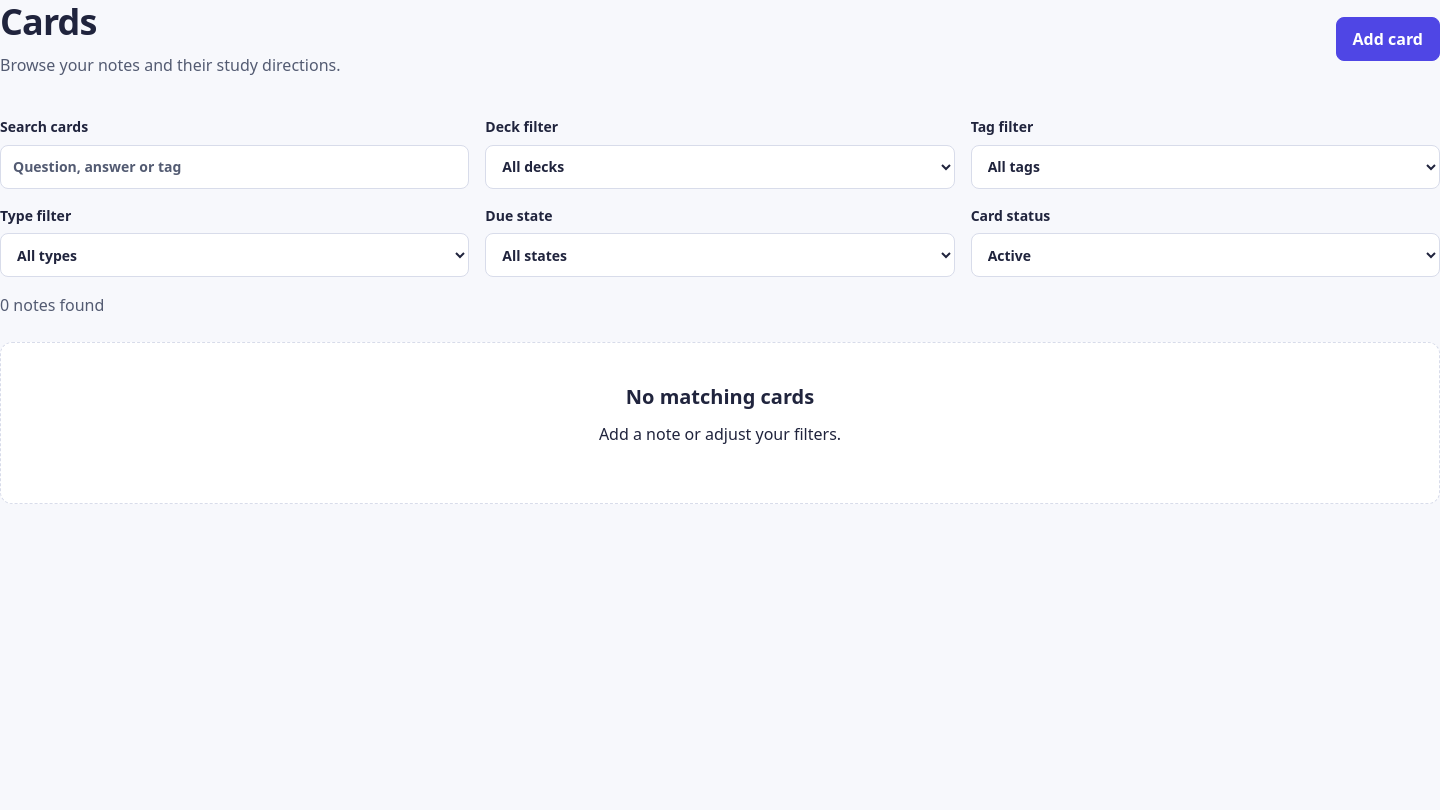
Test: deck and card workflows › creates a basic note and its correct number of study units
This screenshot has width=1440, height=810.
Click the button "Add card": coordinates (1388, 39) [1336,17,1439,61]
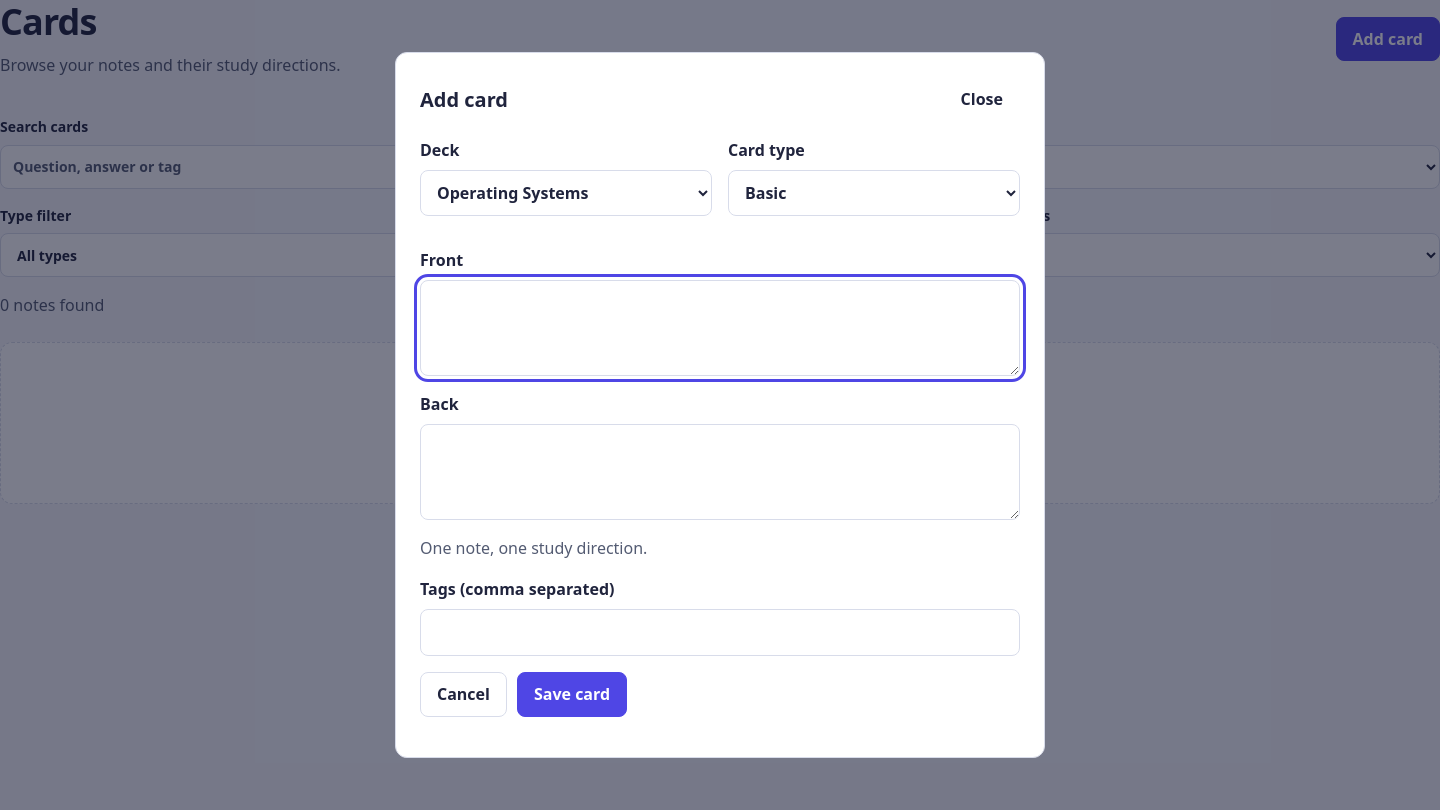
Select "Basic" in the dropdown labelled "Card type": coordinates (874, 193) [728,170,1020,216]
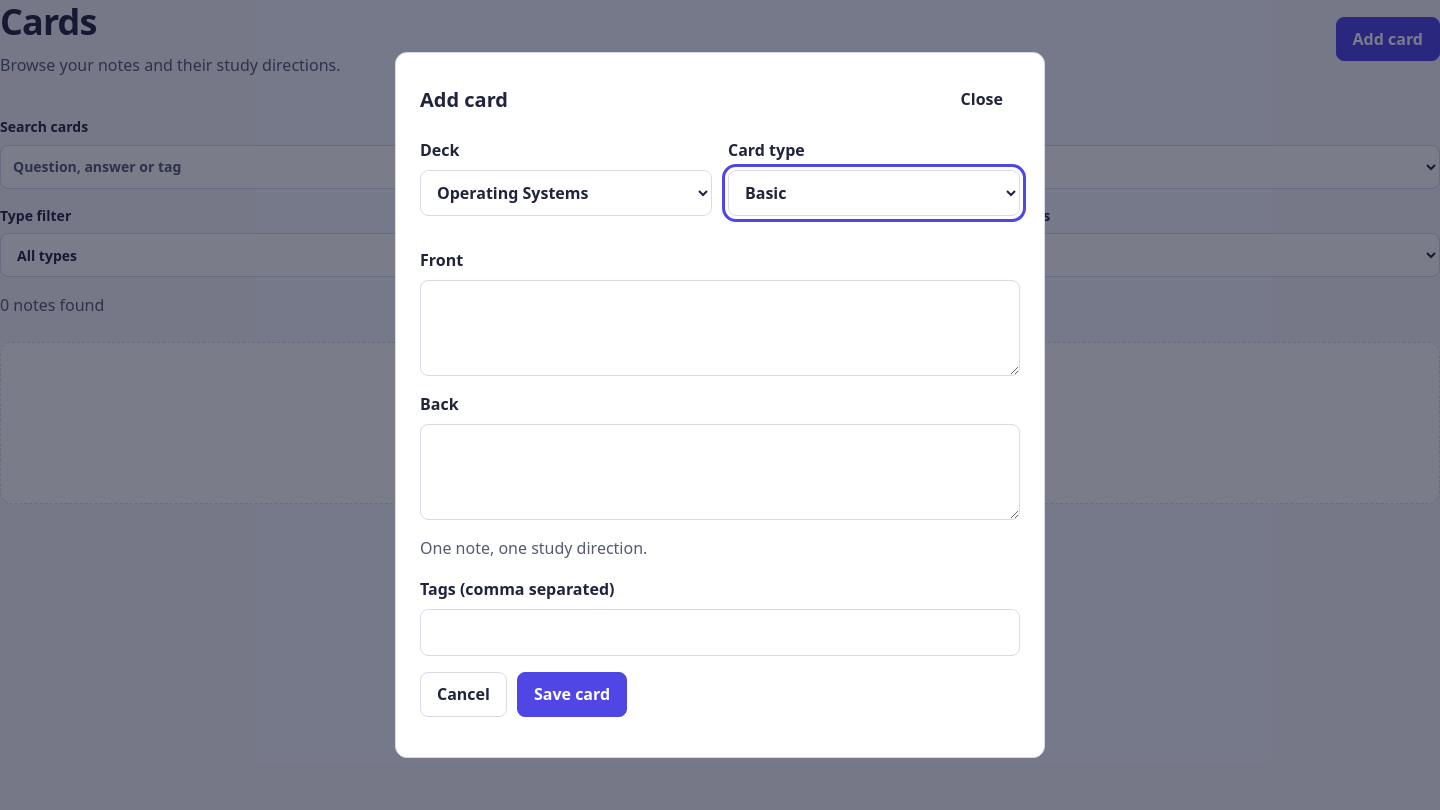
In the text box labelled "Front": coordinates (720, 328) [420,280,1020,376], type "What does fork() do?"
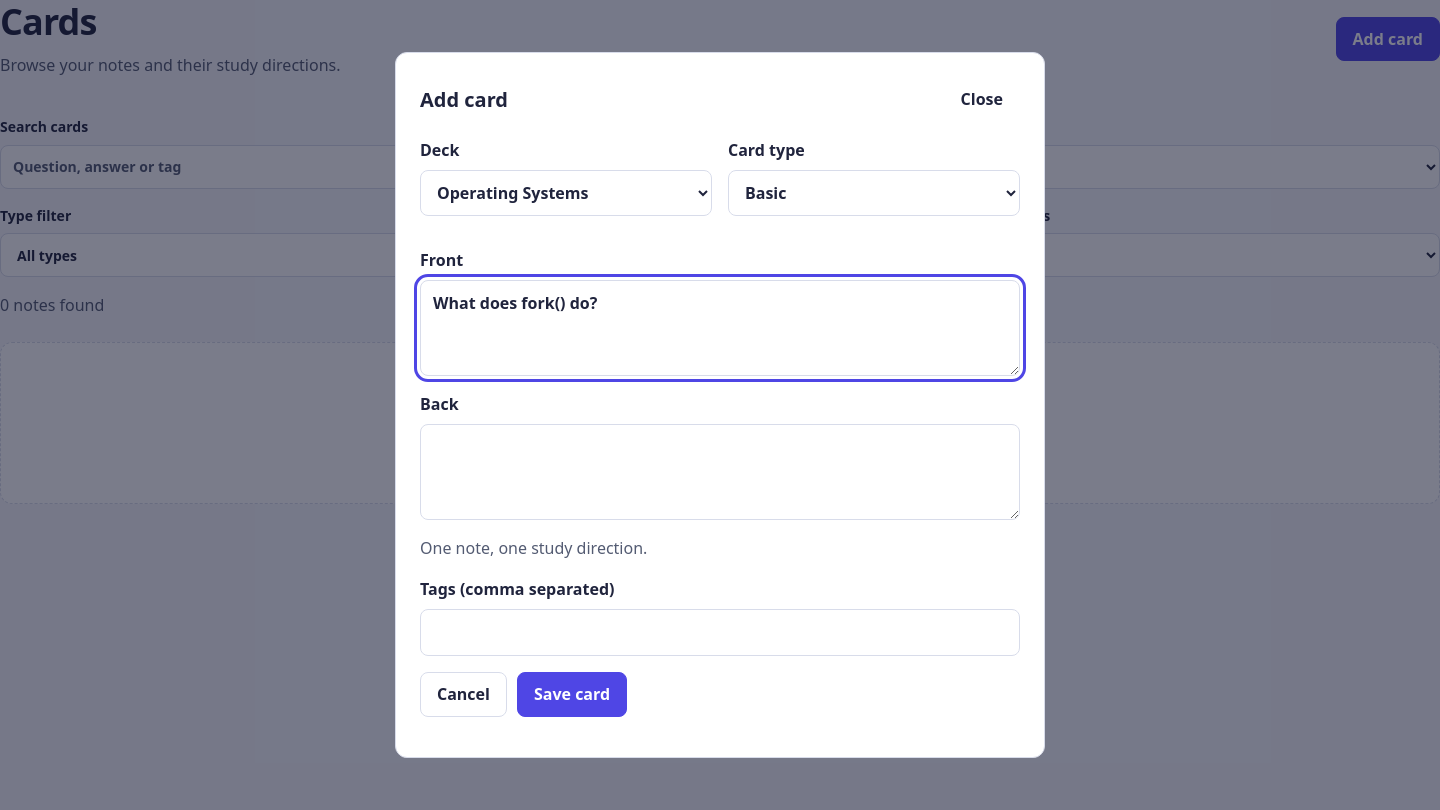
In the text box labelled "Back": coordinates (720, 472) [420,424,1020,520], type "Creates a new process."
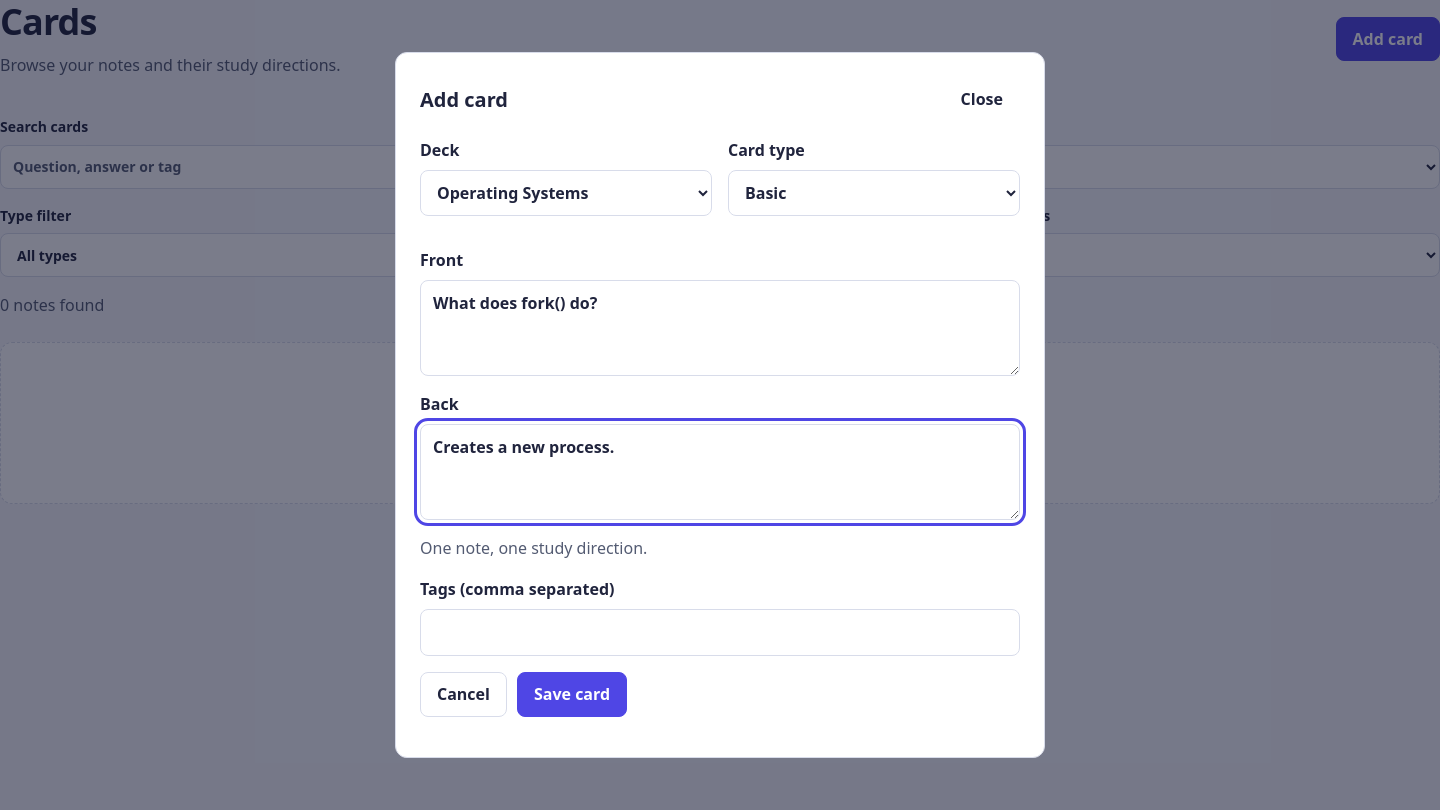
In the field labelled "Tags (comma separated)": coordinates (720, 632) [420,609,1020,656], type " OS , ipc, os"
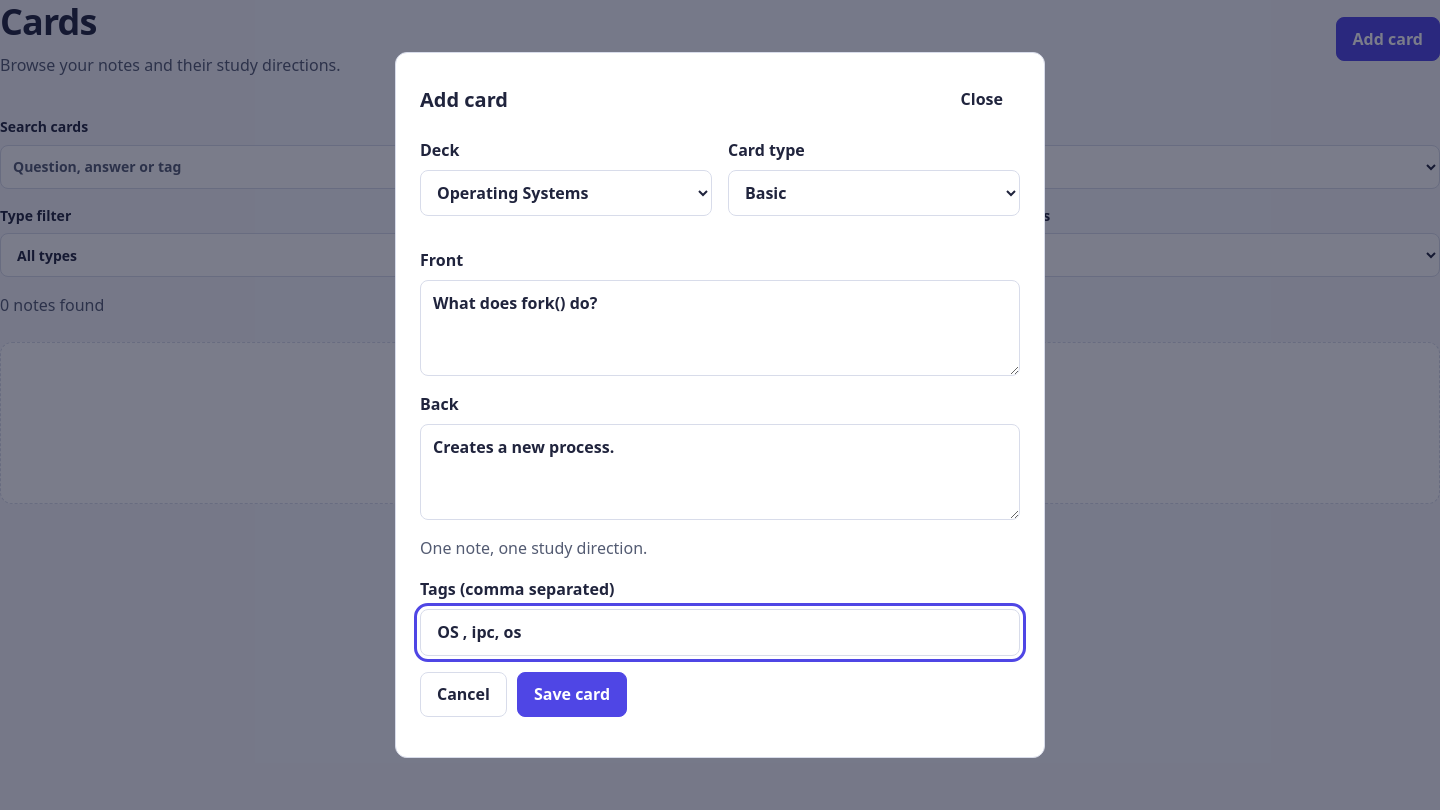
Click the button "Save card": coordinates (572, 694) [517,672,627,717]
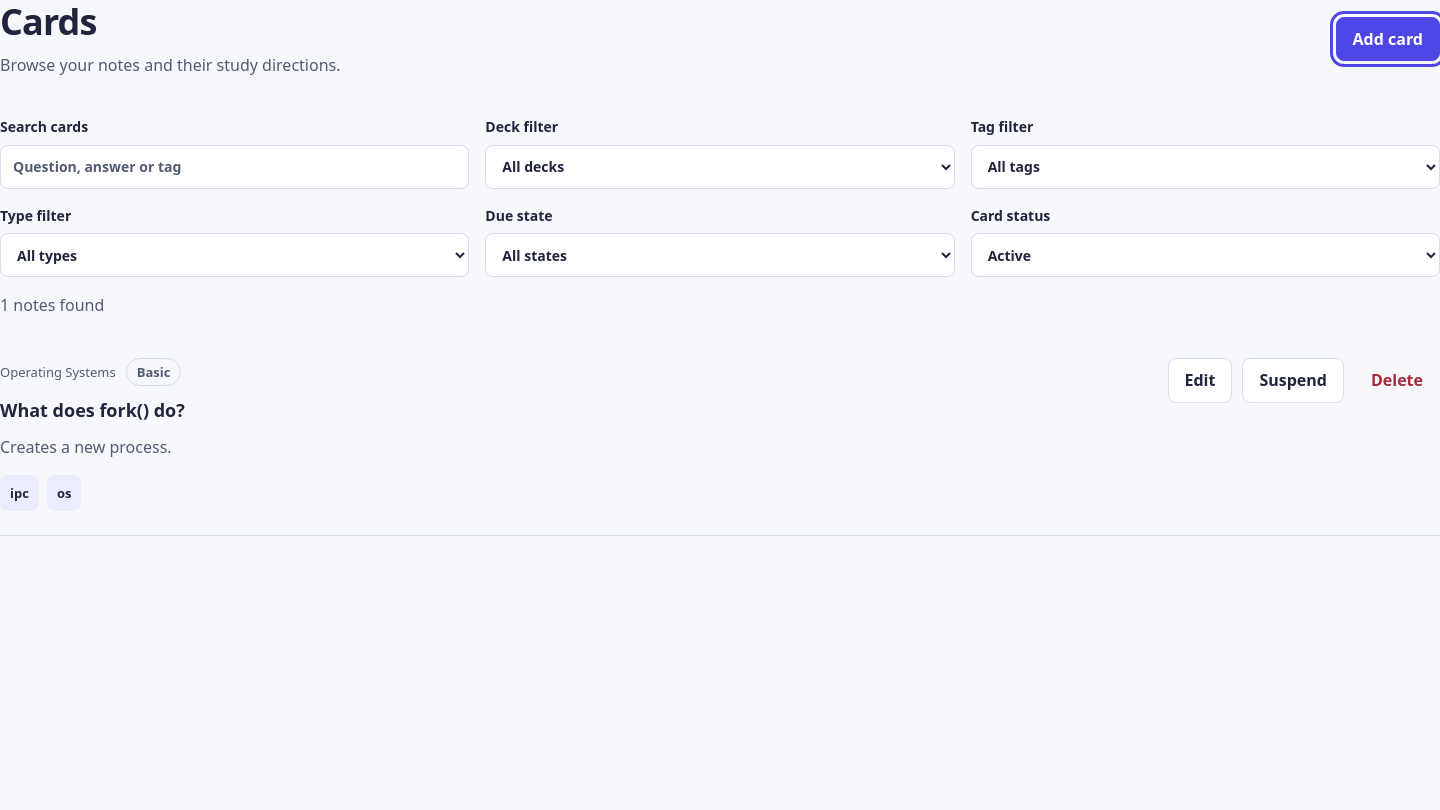
expect the dialog is gone: met
expect the text "1 notes found" is shown: met, box [0,294,104,316]
